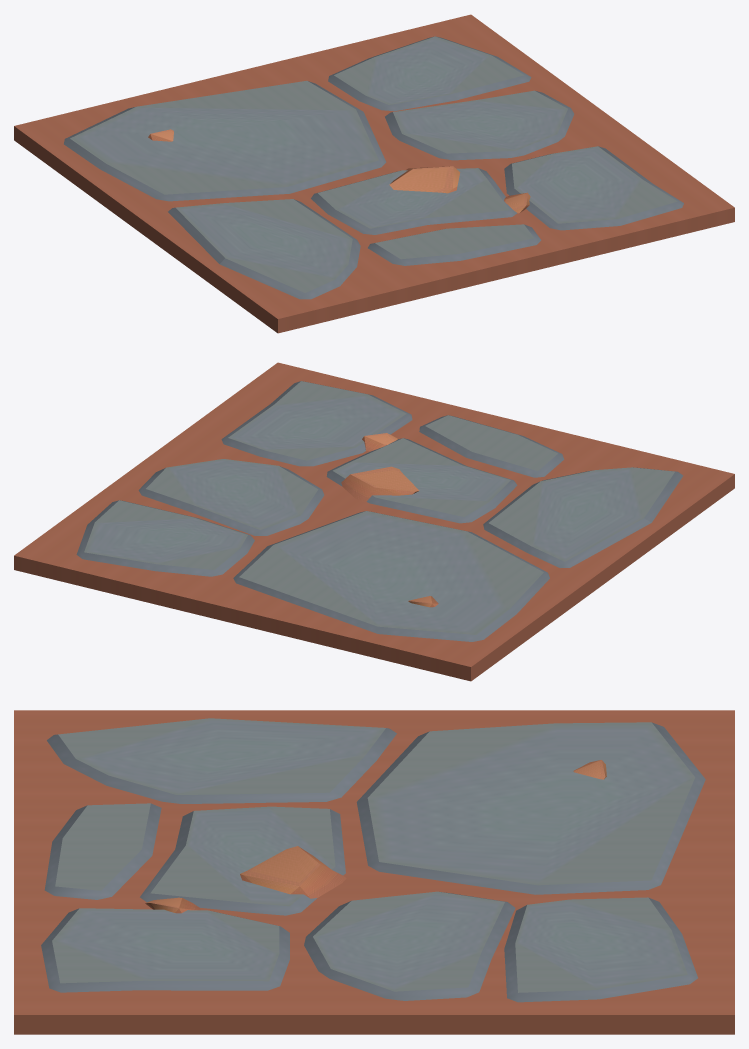
The model's file is Stone_Floor.gltf.
The picture shows the model from 3 angles, top to bottom: view 1: azimuth 30°, elevation 25°; view 2: azimuth 150°, elevation 25°; view 3: azimuth 270°, elevation 25°; orthographic projection. The views are drawn at different scales.
Parts seen in each view (by area): view 1: path_A; view 2: path_A; view 3: path_A.
Part boxes in pixels (left/top/right/bottom): path_A: left=14, top=14, right=734, bottom=333; path_A: left=14, top=362, right=734, bottom=681; path_A: left=14, top=710, right=734, bottom=1034.
Bounding box in the file's own units: 4 × 0.1864 × 4.
Materials: 1 (1 with a texture image).
